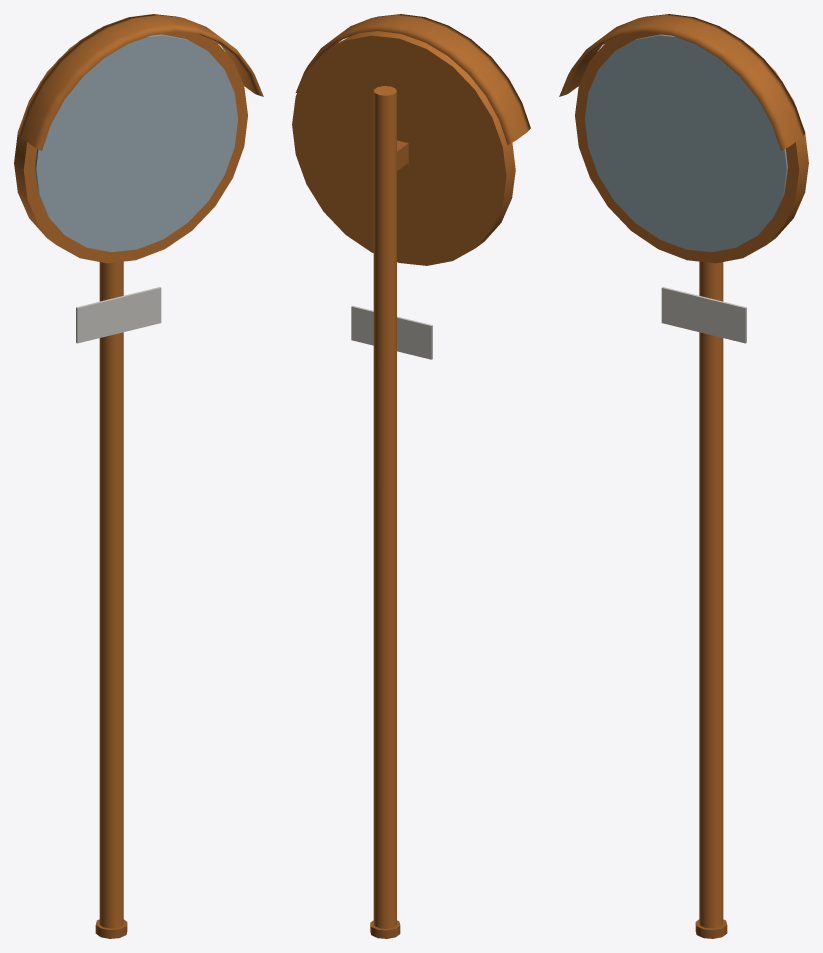
The model's file is street_curve_mirror_01.glb.
3 renders of one model, left to right at view 1: azimuth 30°, elevation 25°; view 2: azimuth 150°, elevation 25°; view 3: azimuth 330°, elevation 25°, orthographic. The views are drawn at different scales.
Visible parts, largest first — view 1: street_curve_mirror_01; view 2: street_curve_mirror_01; view 3: street_curve_mirror_01.
Part boxes in pixels (left/top/right/bottom): street_curve_mirror_01: left=14, top=14, right=263, bottom=938; street_curve_mirror_01: left=292, top=14, right=530, bottom=938; street_curve_mirror_01: left=559, top=14, right=808, bottom=938.
Size of the model in its own units: 0.8102 by 3.17 by 0.305.
